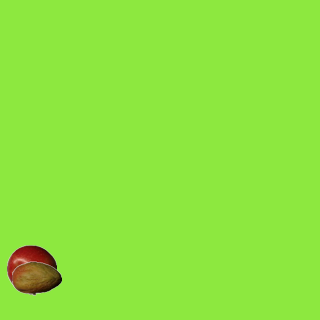Apple Braeburn: (6, 244, 56, 294)
Papaya: (11, 253, 61, 303)
